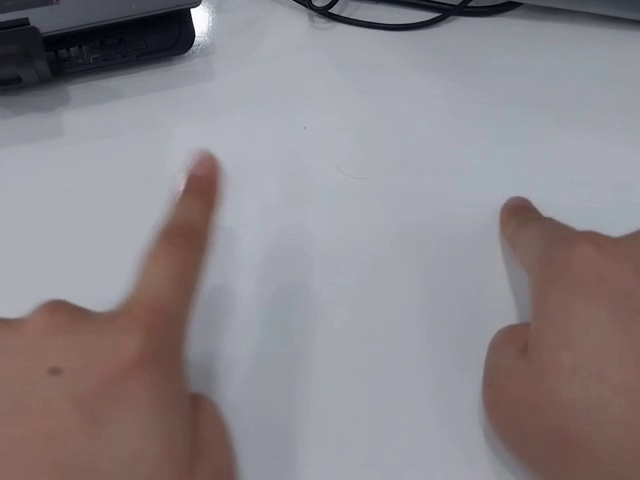fingers: (498, 194, 544, 240), (181, 150, 221, 198)
